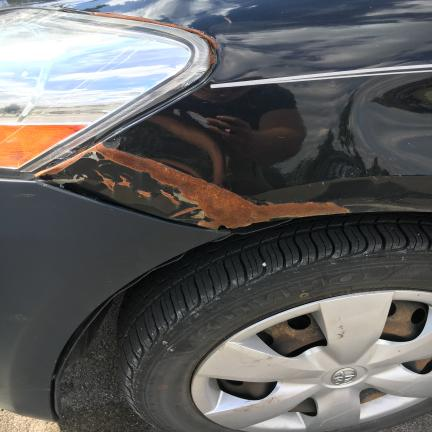karat: (93, 144, 349, 230), (36, 143, 104, 177), (95, 171, 131, 190)
